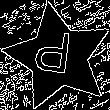P_S: (37, 30, 80, 84)
